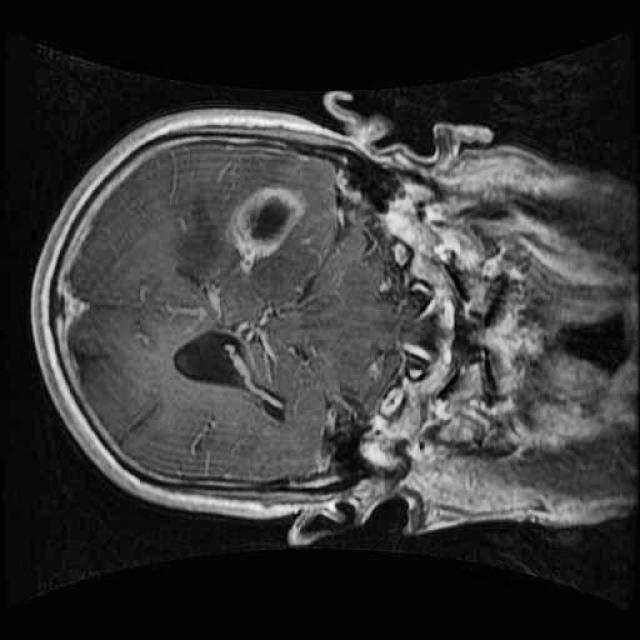Non-Tumor: (224, 172, 312, 276)
